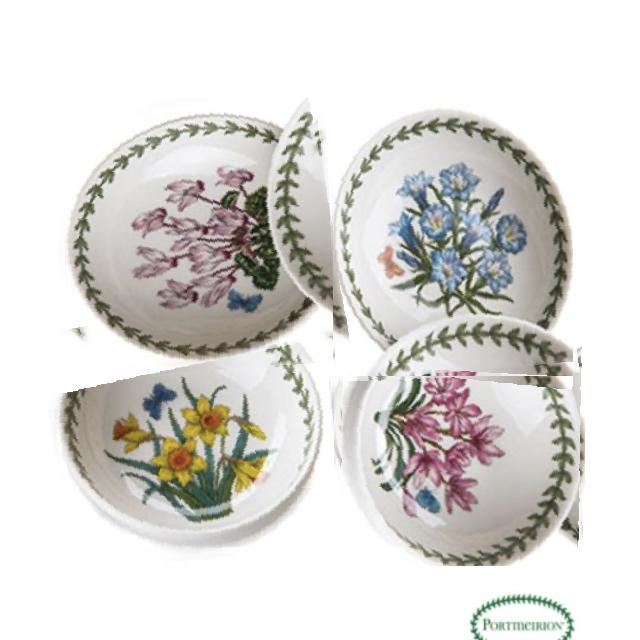recyclable: (50, 97, 333, 380), (44, 298, 334, 567), (319, 102, 573, 376), (327, 309, 585, 566)
